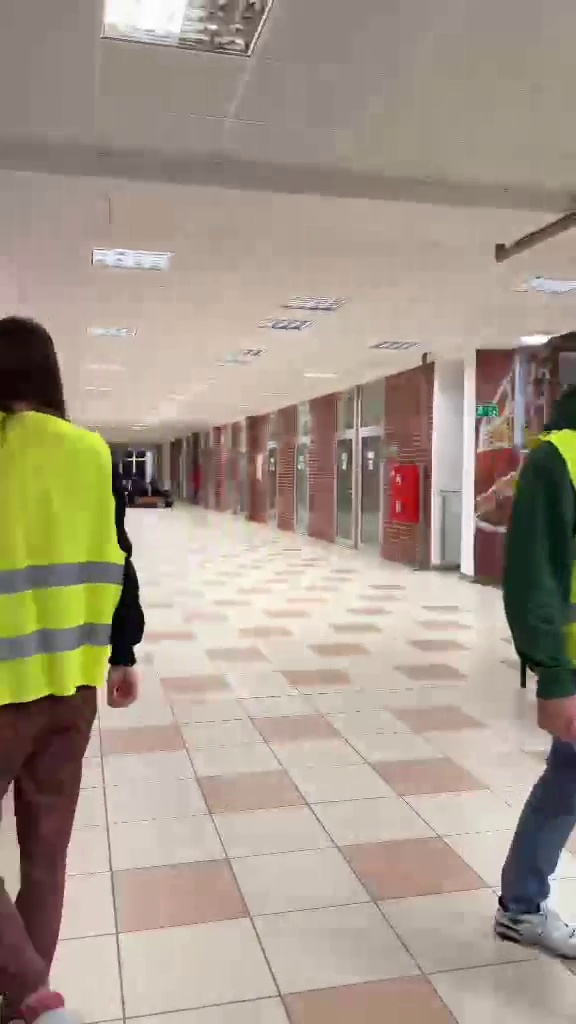vest: (0, 309, 147, 994), (489, 379, 576, 957)
